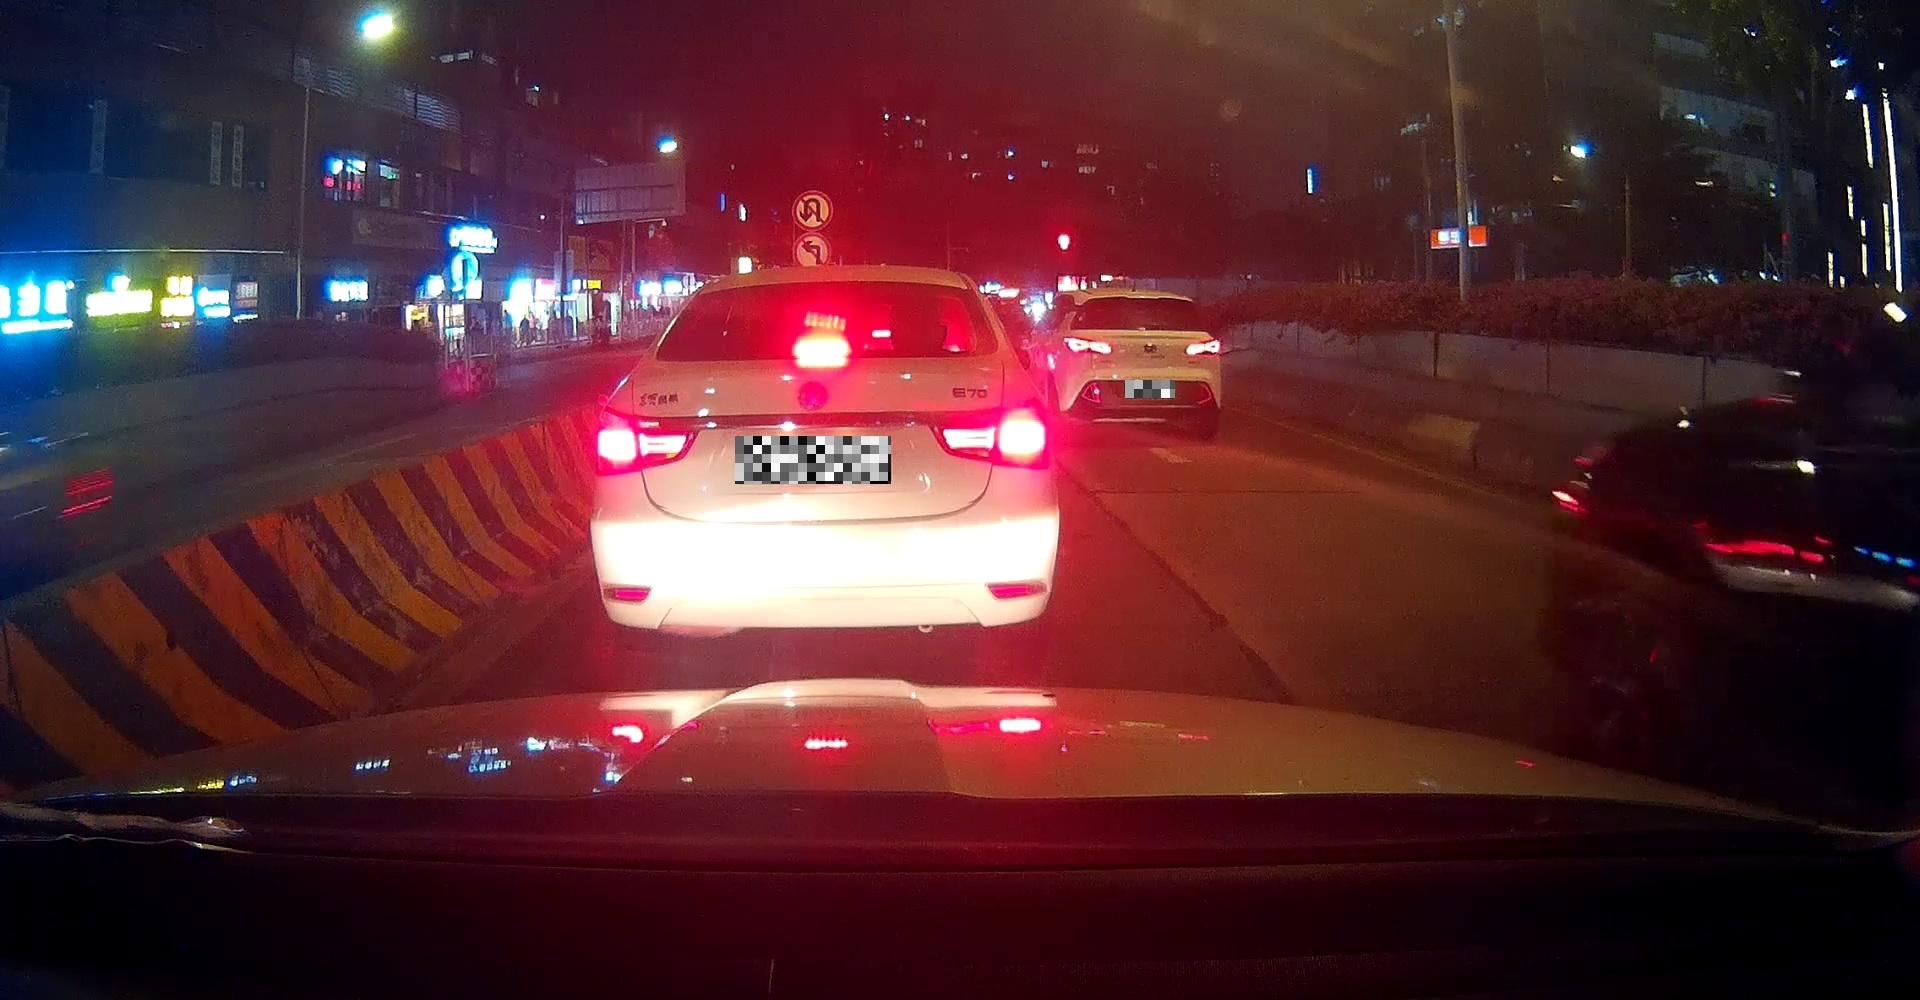L_light: (592, 405, 698, 475), (1063, 335, 1112, 354)
R_light: (924, 401, 1050, 470), (1183, 338, 1220, 355)
T_light: (792, 338, 855, 362), (1128, 294, 1161, 302)
night-brake: (587, 263, 1058, 655)
night-no: (1059, 291, 1223, 434)
plate_1: (735, 437, 891, 484)
plate_2: (1125, 379, 1175, 398)
